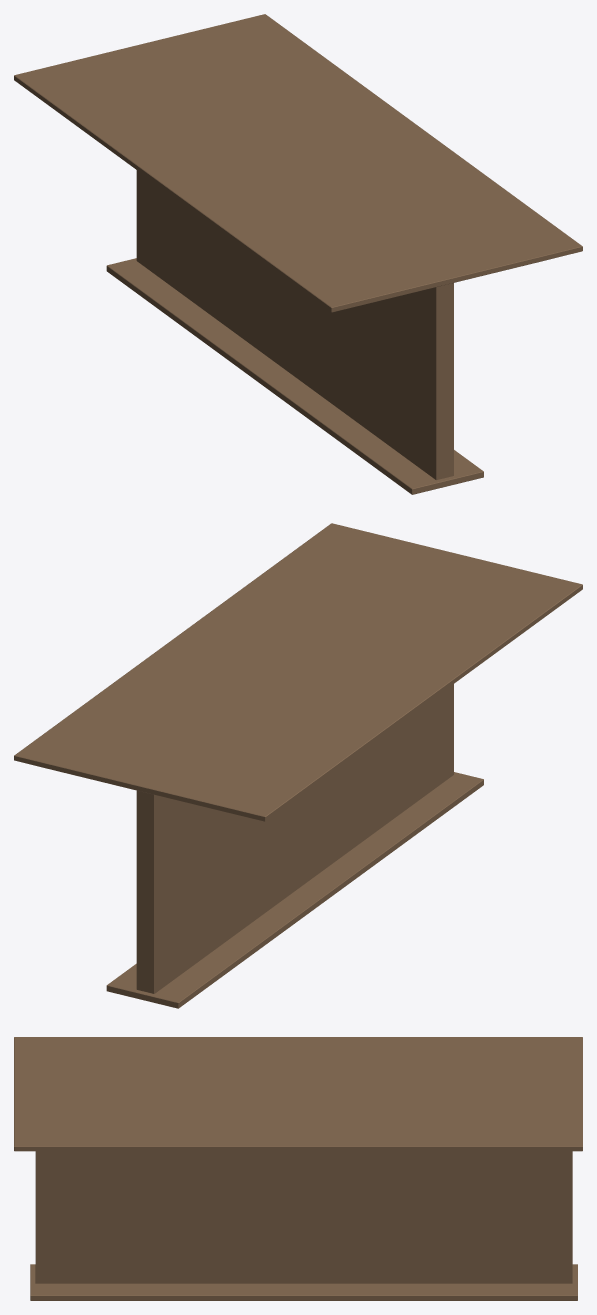
Rendered from StandingDesk2.fbx.
The picture shows the model from 3 angles, top to bottom: view 1: azimuth 30°, elevation 25°; view 2: azimuth 150°, elevation 25°; view 3: azimuth 270°, elevation 25°; orthographic projection. The views are drawn at different scales.
Visible parts, largest first — view 1: StandingDesk2; view 2: StandingDesk2; view 3: StandingDesk2.
Boxes of the visible parts, x1,y1,x2,y2 form: StandingDesk2: (14, 14, 582, 494); StandingDesk2: (14, 523, 582, 1008); StandingDesk2: (14, 1037, 582, 1300).
Bounding box in the file's own units: 1.14 × 0.9382 × 2.5.
